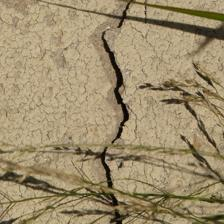Crack: (49, 2, 94, 222)
